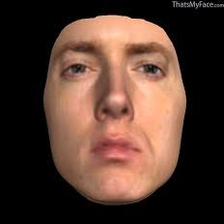no_mask: (54, 25, 185, 199)
